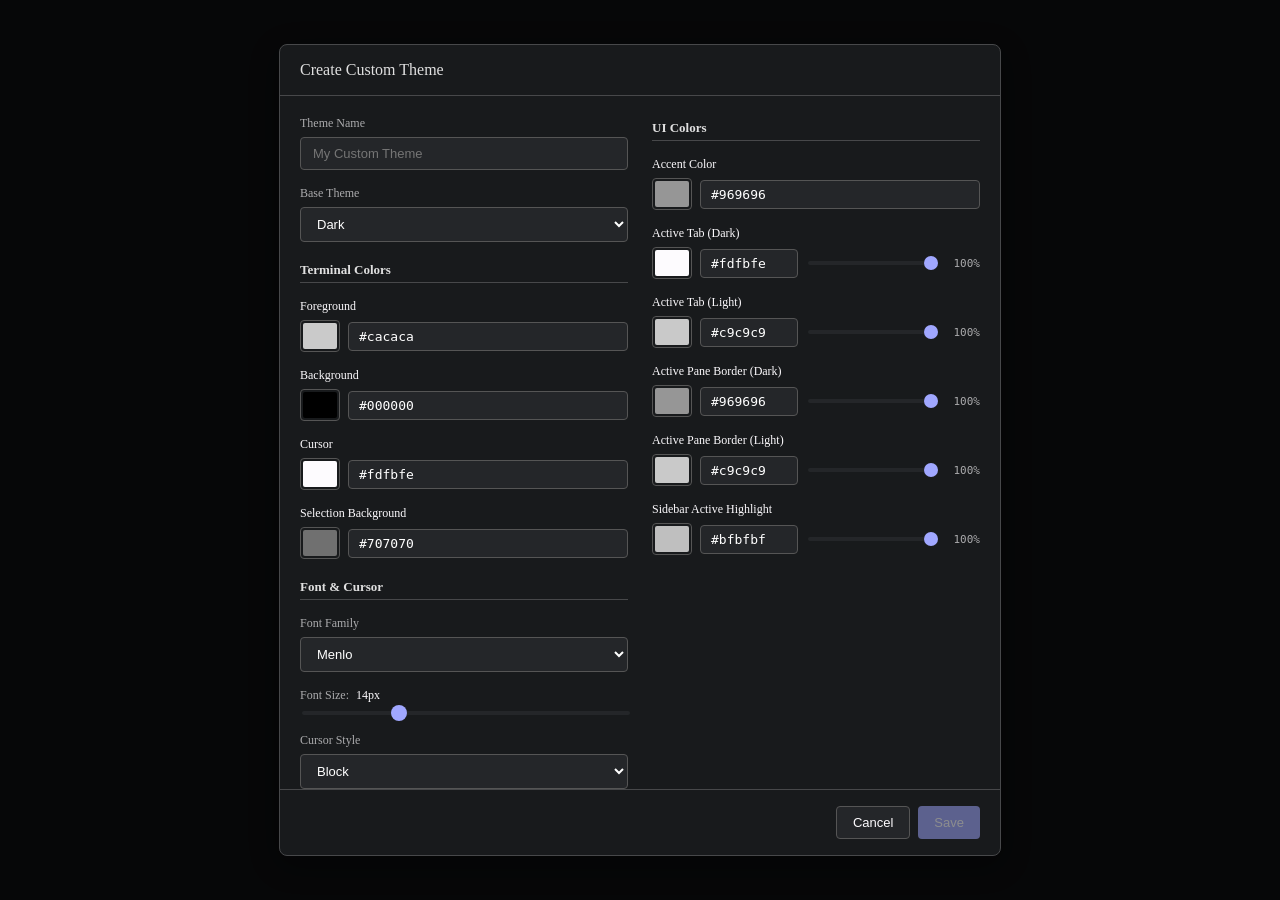
Scenario: ThemeEditor › should close dialog when Cancel is clicked
Type "Something" into the field with id "themeName".
click(464, 154); type("Something")  # box [300,137,628,170]
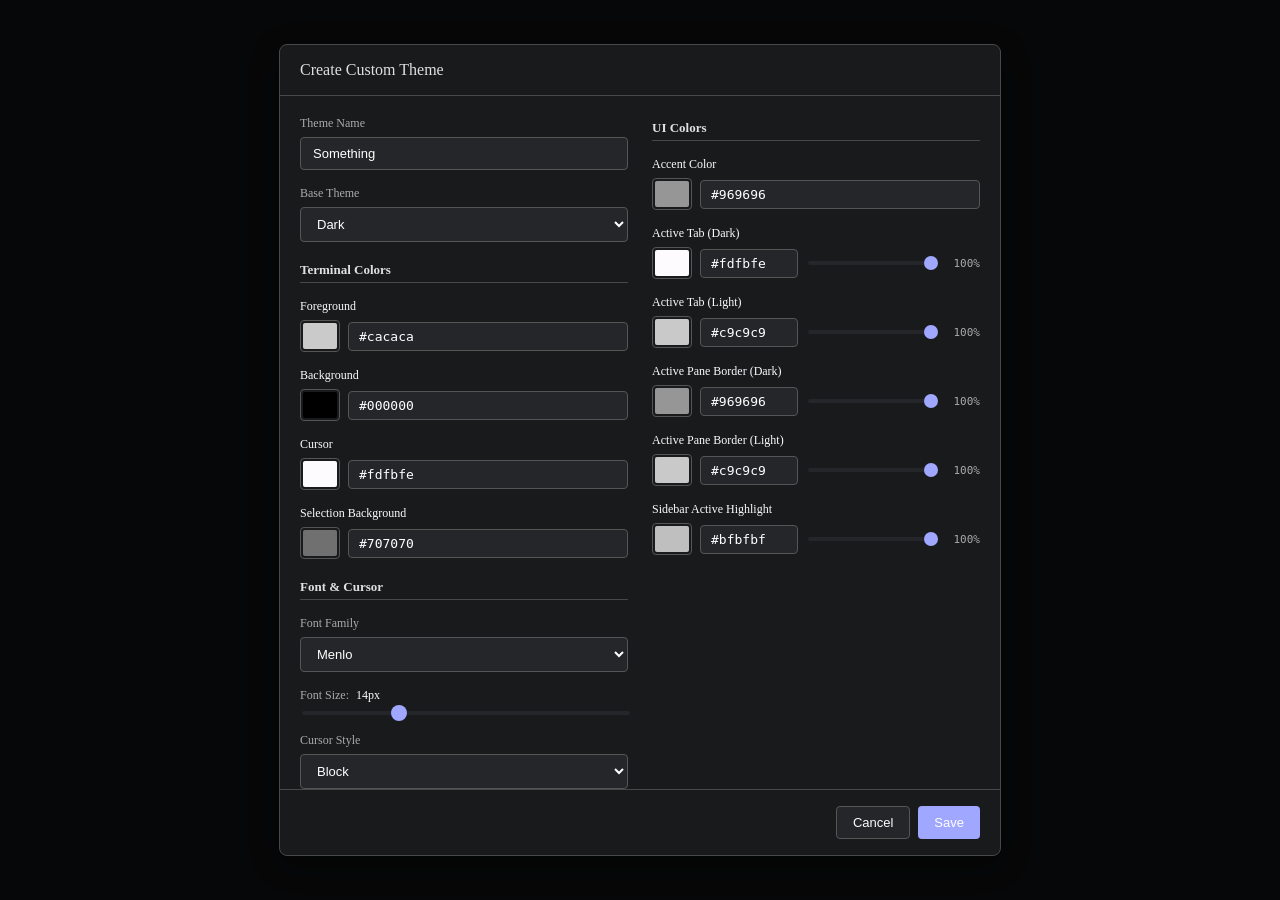
Click the button "Cancel".
click(873, 822)  # box [836,806,910,839]
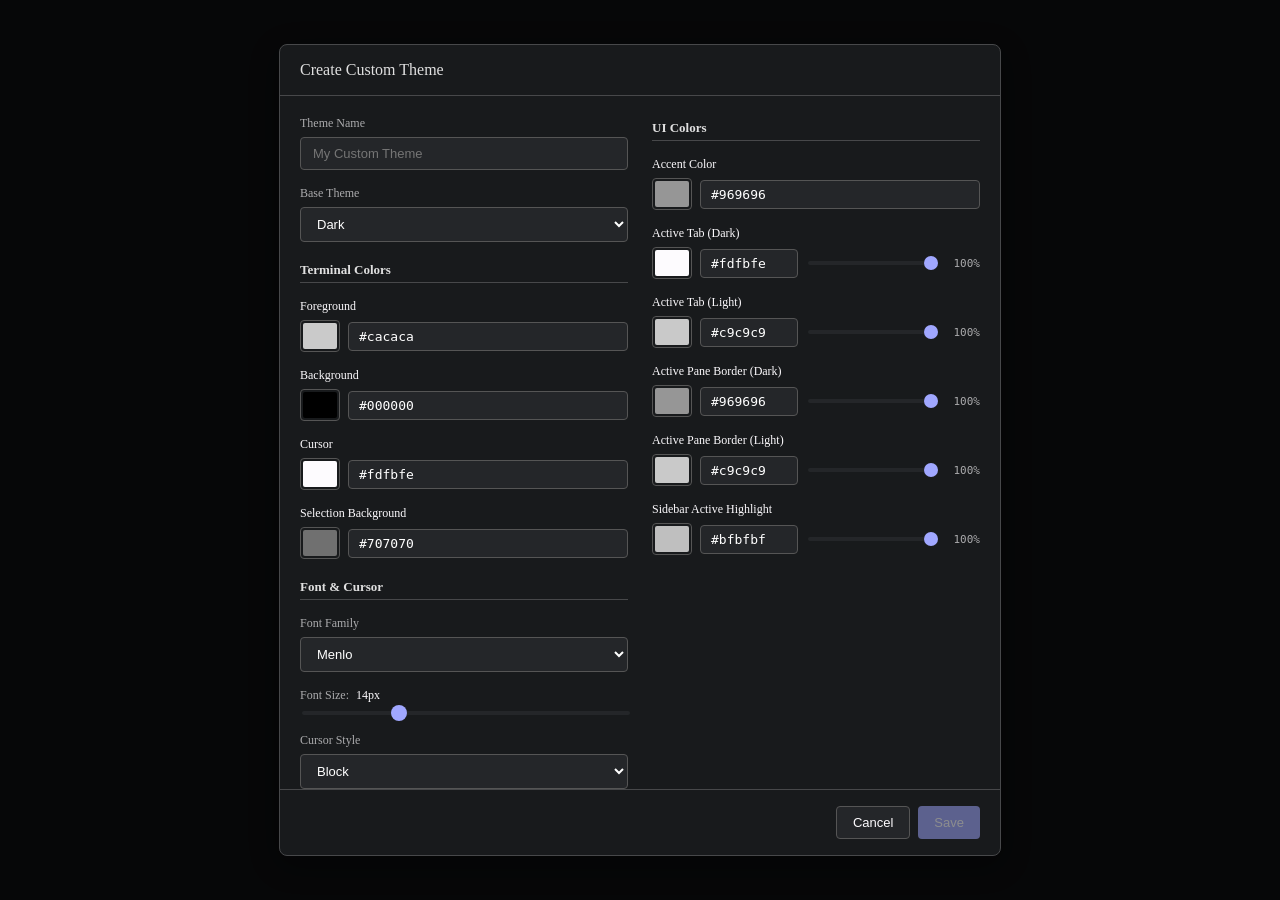
expect the field with id "themeName" is empty: met, box [300,137,628,170]
